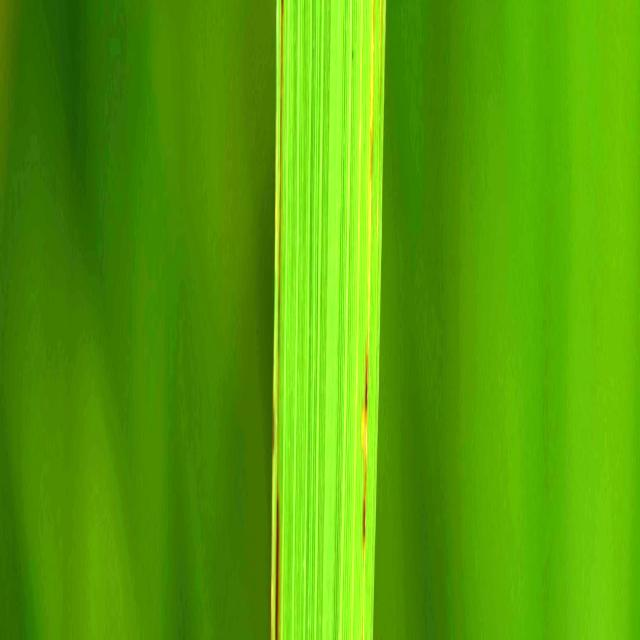BLS: (277, 0, 284, 452), (369, 0, 375, 191), (363, 344, 368, 557), (275, 459, 279, 638)
